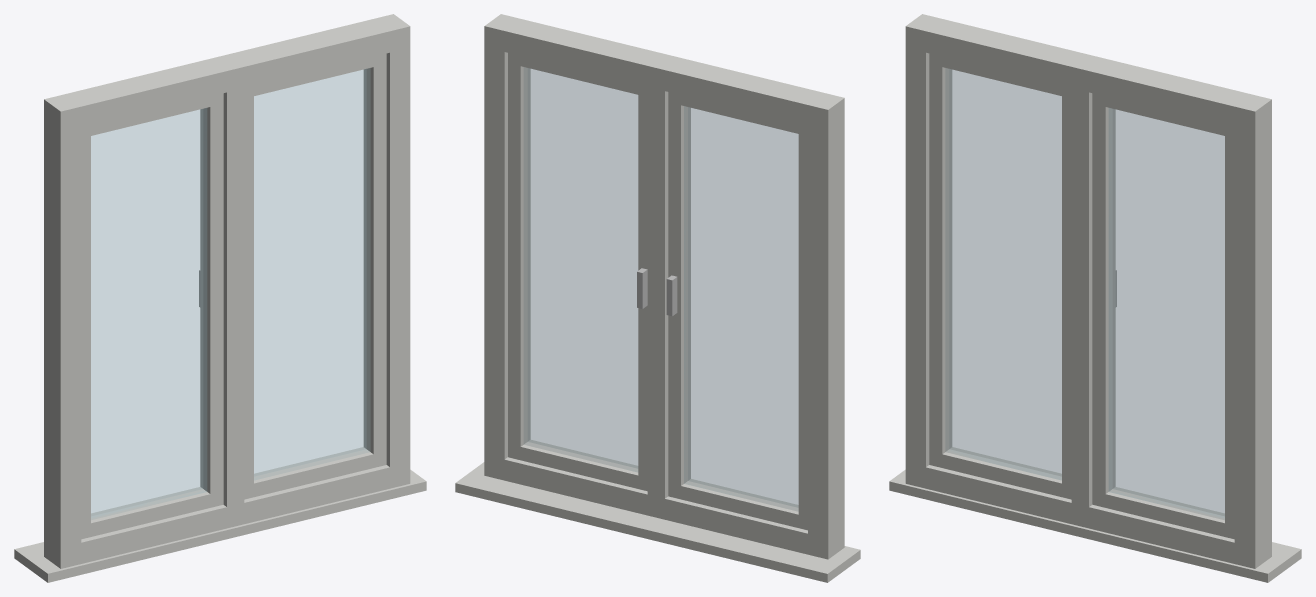
File: opening.window.casement_1200x1500.glb
3 views of the same model, side by side, from view 1: azimuth 30°, elevation 25°; view 2: azimuth 150°, elevation 25°; view 3: azimuth 330°, elevation 25° (orthographic).
Parts seen in each view (by area): view 1: frame__paint_white, glazing__glass; view 2: frame__paint_white, glazing__glass, ironmongery__steel_stainless; view 3: frame__paint_white, glazing__glass.
Part boxes in pixels (<box>): frame__paint_white: <box>14,14,426,582</box>; glazing__glass: <box>91,68,370,519</box>; frame__paint_white: <box>455,14,860,582</box>; glazing__glass: <box>524,67,798,510</box>; ironmongery__steel_stainless: <box>637,268,677,316</box>; frame__paint_white: <box>889,14,1301,582</box>; glazing__glass: <box>945,68,1224,519</box>.
Size of the model in its own units: 1.3 by 1.53 by 0.2.
